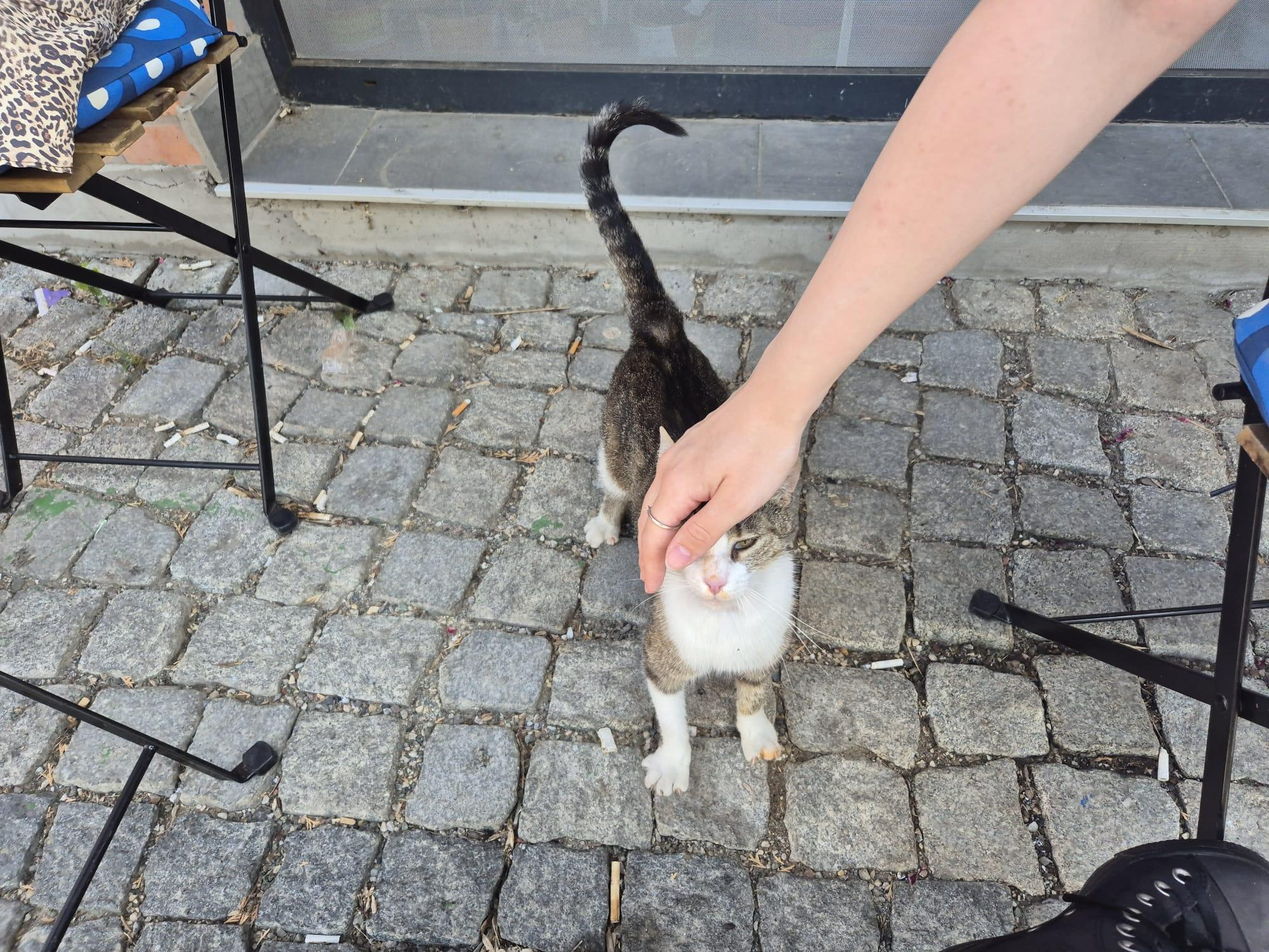macka: (578, 102, 799, 796)
